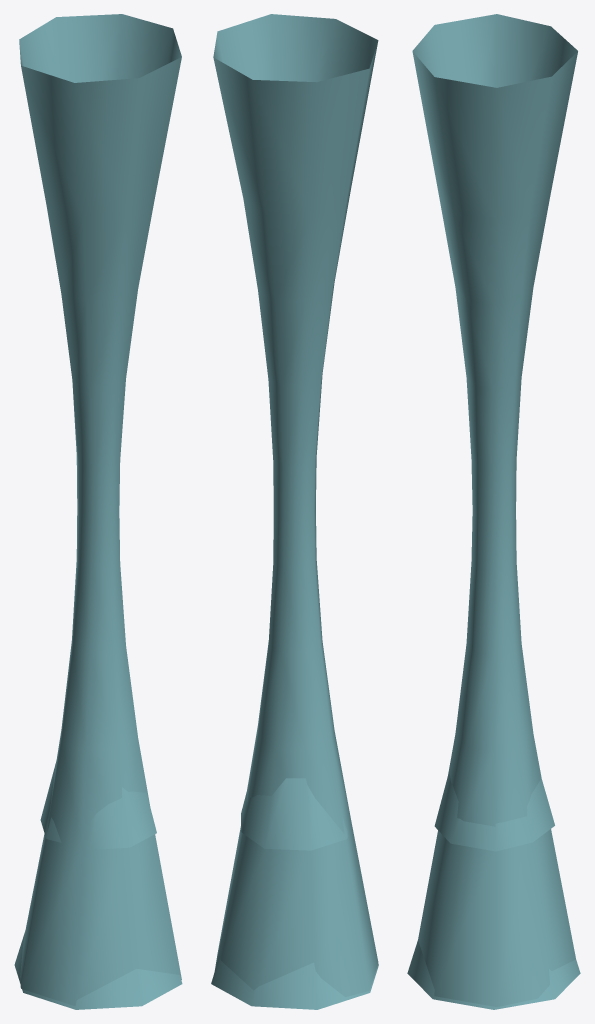
The model's file is Strong.fbx.
3 renders of one model, left to right at view 1: azimuth 30°, elevation 25°; view 2: azimuth 150°, elevation 25°; view 3: azimuth 270°, elevation 25°, orthographic.
Visible parts, largest first — view 1: Strong_Body4, Strong_Body, Strong_Body2; view 2: Strong_Body4, Strong_Body, Strong_Body2; view 3: Strong_Body4, Strong_Body, Strong_Body2.
Part boxes in pixels (x1,y1,x2,y2): Strong_Body4: (19, 14, 181, 1005); Strong_Body: (40, 762, 156, 849); Strong_Body2: (14, 931, 182, 1009); Strong_Body4: (213, 14, 378, 996); Strong_Body: (241, 778, 347, 850); Strong_Body2: (211, 955, 378, 1009); Strong_Body4: (412, 14, 577, 1006); Strong_Body: (434, 771, 554, 851); Strong_Body2: (407, 940, 580, 1009).
Size of the model in its own units: 258 by 1501 by 256.
